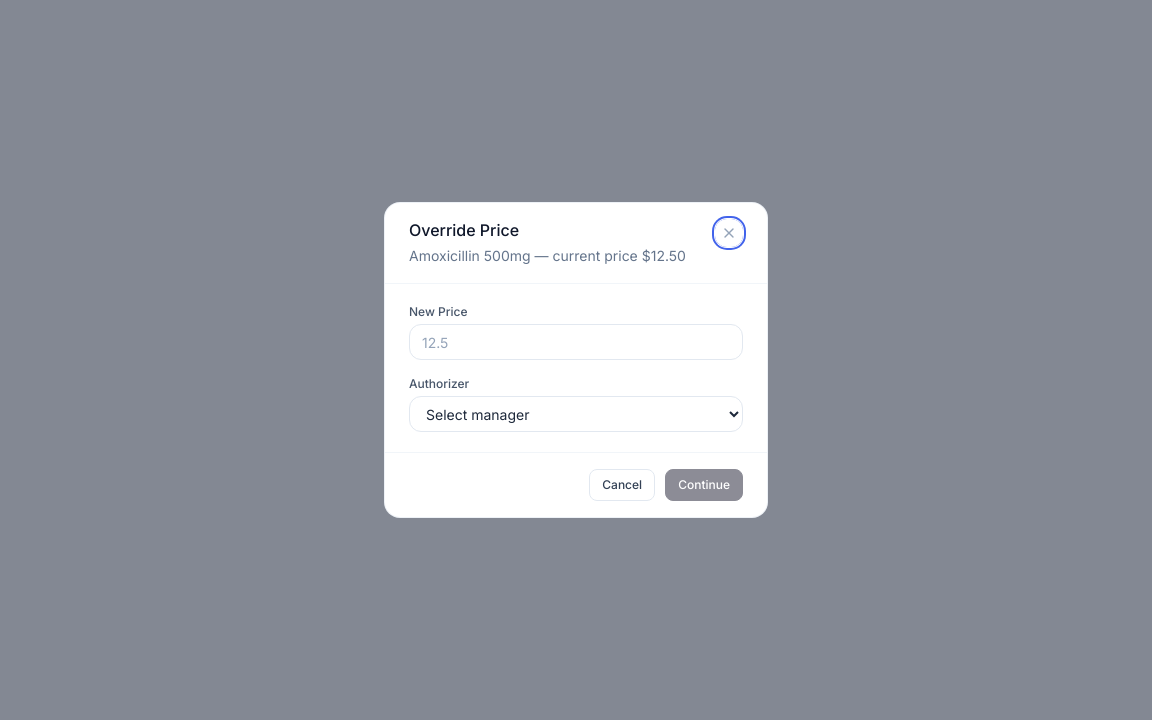
Scenario: PriceOverrideModal › disables Continue until both a valid new price and an authorizer are chosen
This screenshot has width=1152, height=720.
Check: the button "Continue" is disabled, box [665,469,743,501]
In the number field named "New price": (576, 342) [409,324,743,360], type "9.99"
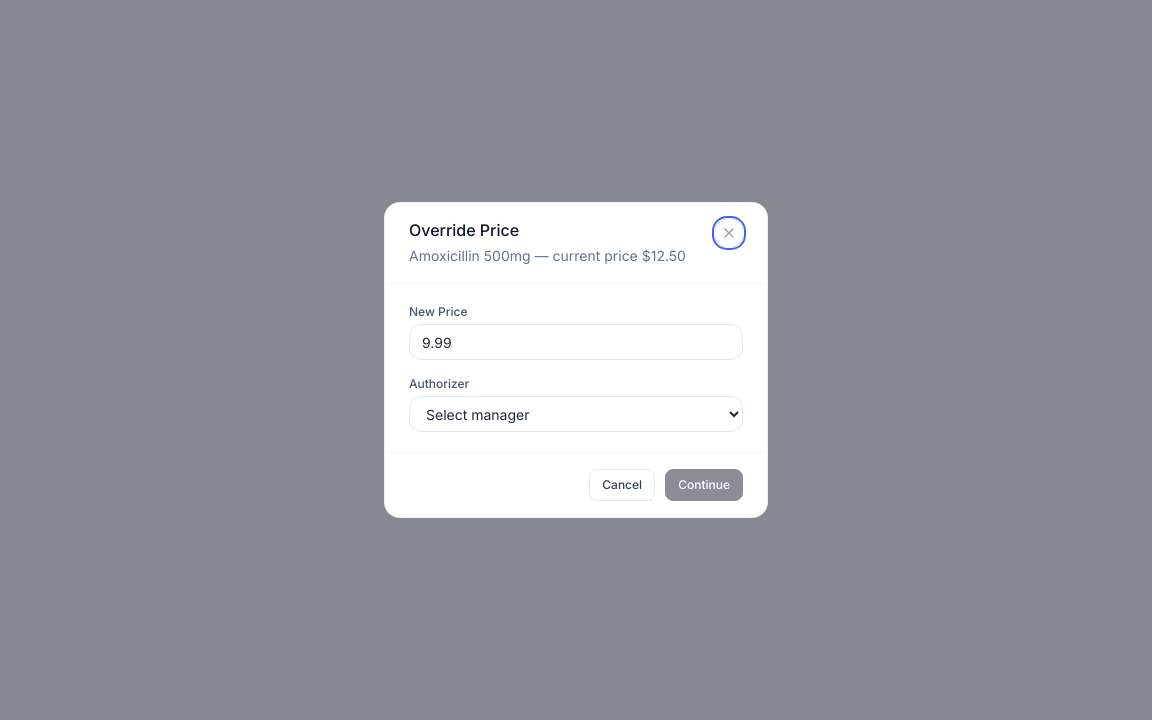
Check: the button "Continue" is disabled, box [665,469,743,501]
Select "Mona Manager" in the dropdown labelled "Authorizer": (576, 414) [409,396,743,432]
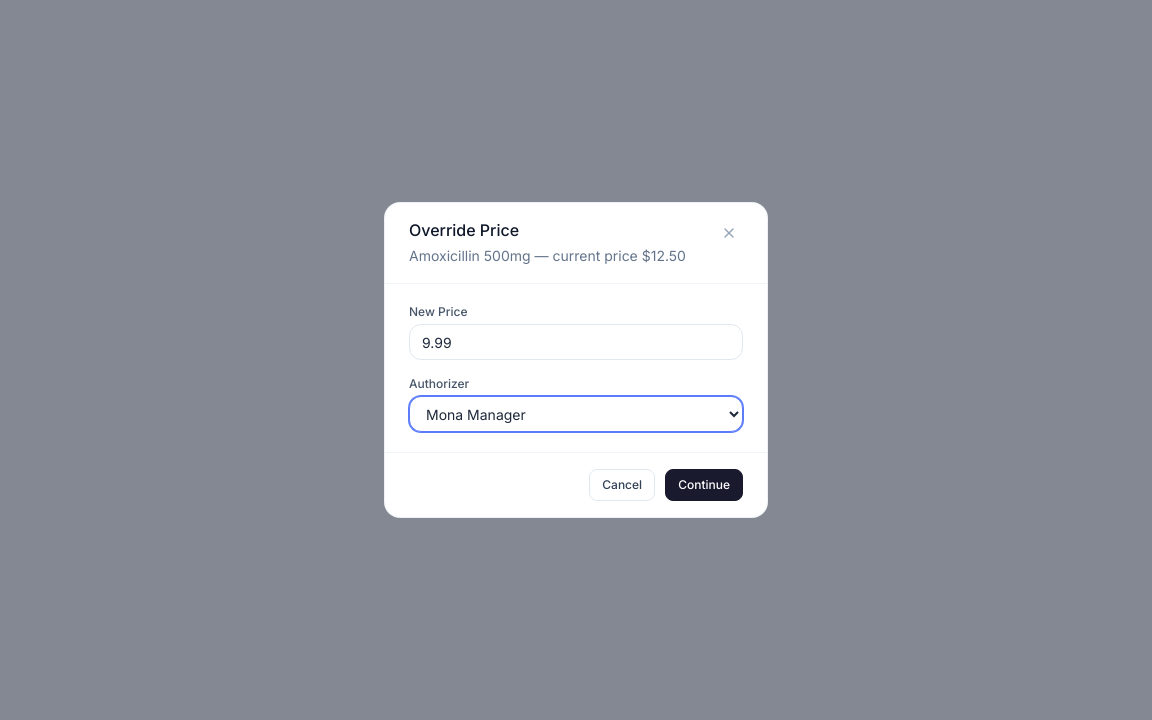
Check: the button "Continue" is enabled, box [665,469,743,501]
